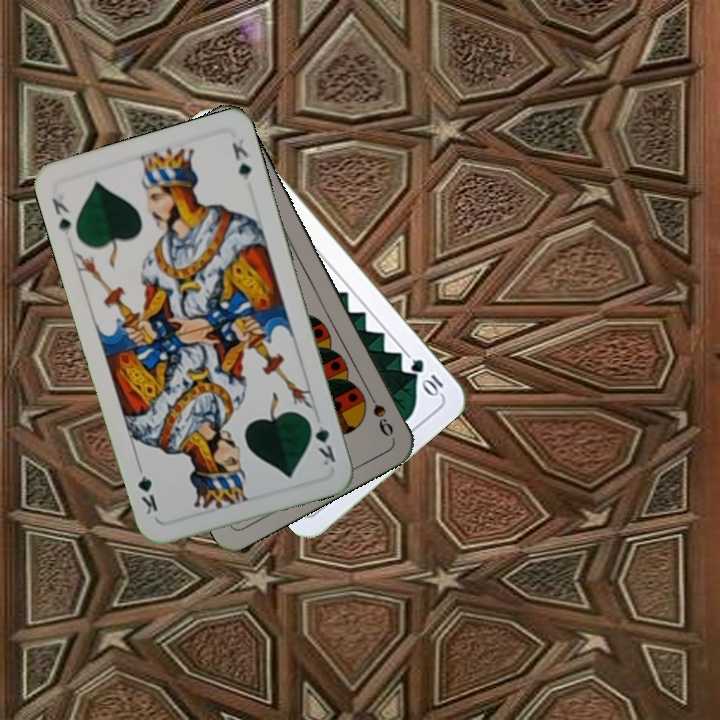G10: (406, 354, 446, 399)
GK: (304, 414, 338, 468), (48, 194, 74, 238)
S9: (362, 384, 396, 439)
